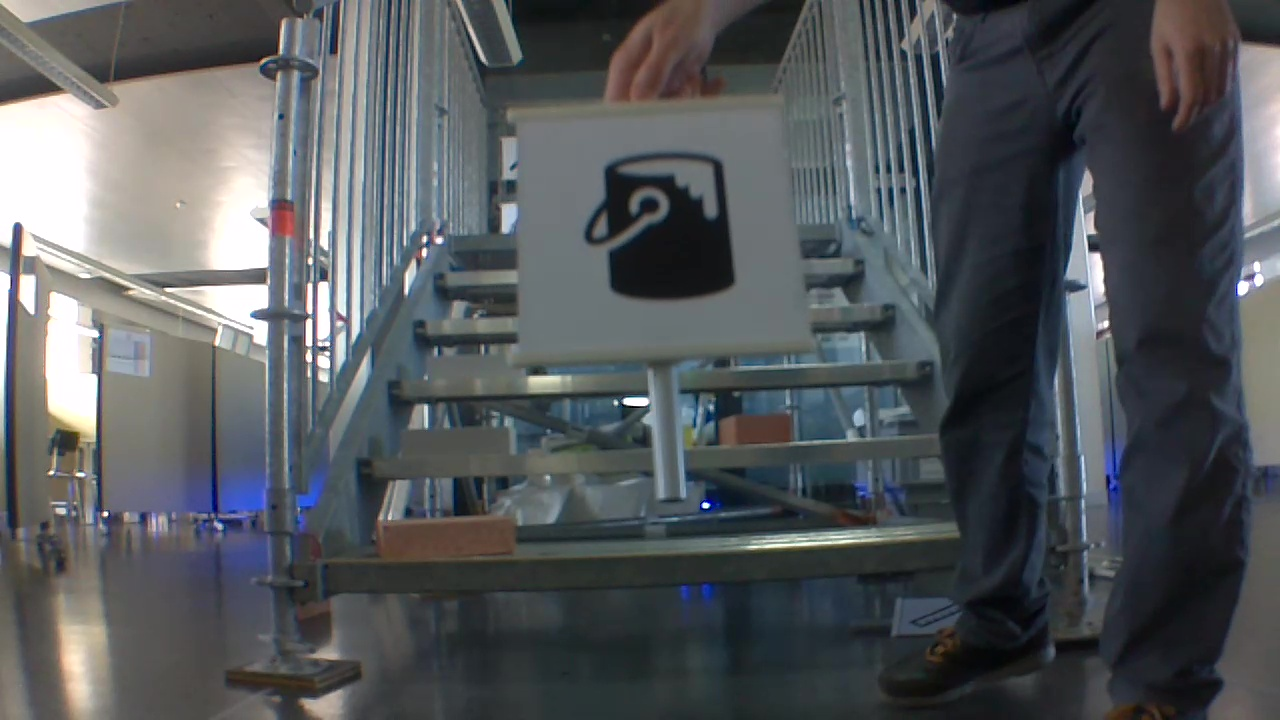brick: (378, 516, 516, 558), (404, 429, 514, 456), (719, 415, 792, 443), (427, 355, 515, 378)
bucket: (574, 146, 745, 306)
